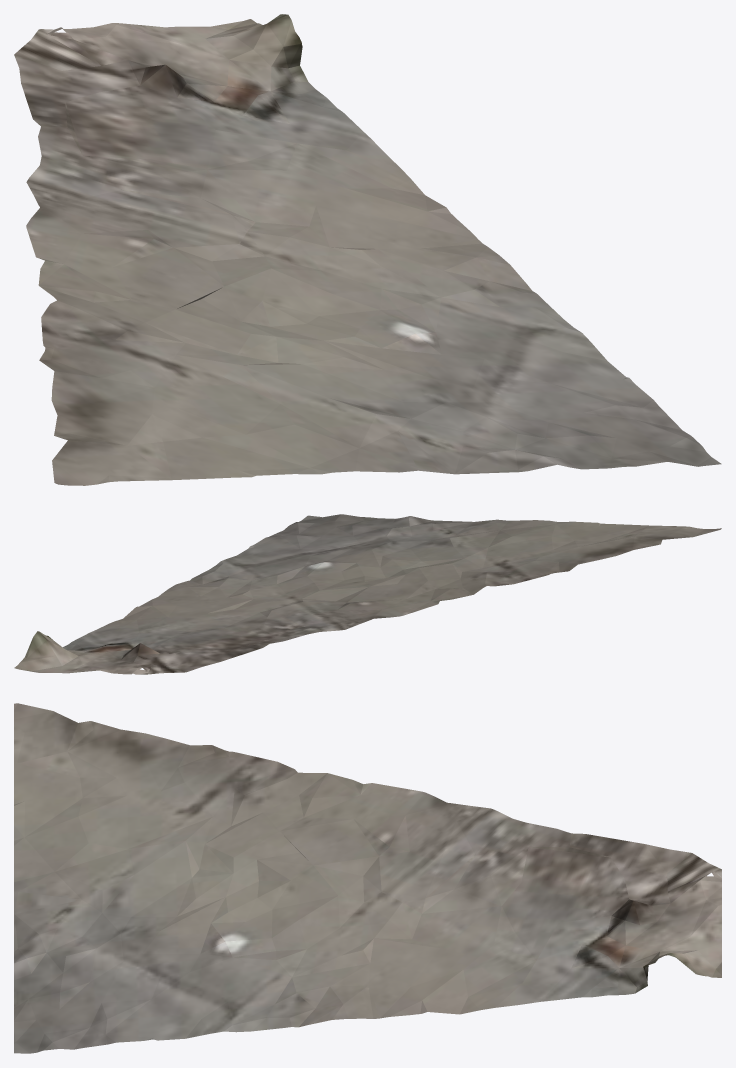
3 renders of one model, top to bottom at view 1: azimuth 30°, elevation 25°; view 2: azimuth 150°, elevation 25°; view 3: azimuth 270°, elevation 25°, orthographic. The views are drawn at different scales.
Size of the model in its own units: 0.6821 by 0.1392 by 0.8374.
2 materials, 2 textured.
